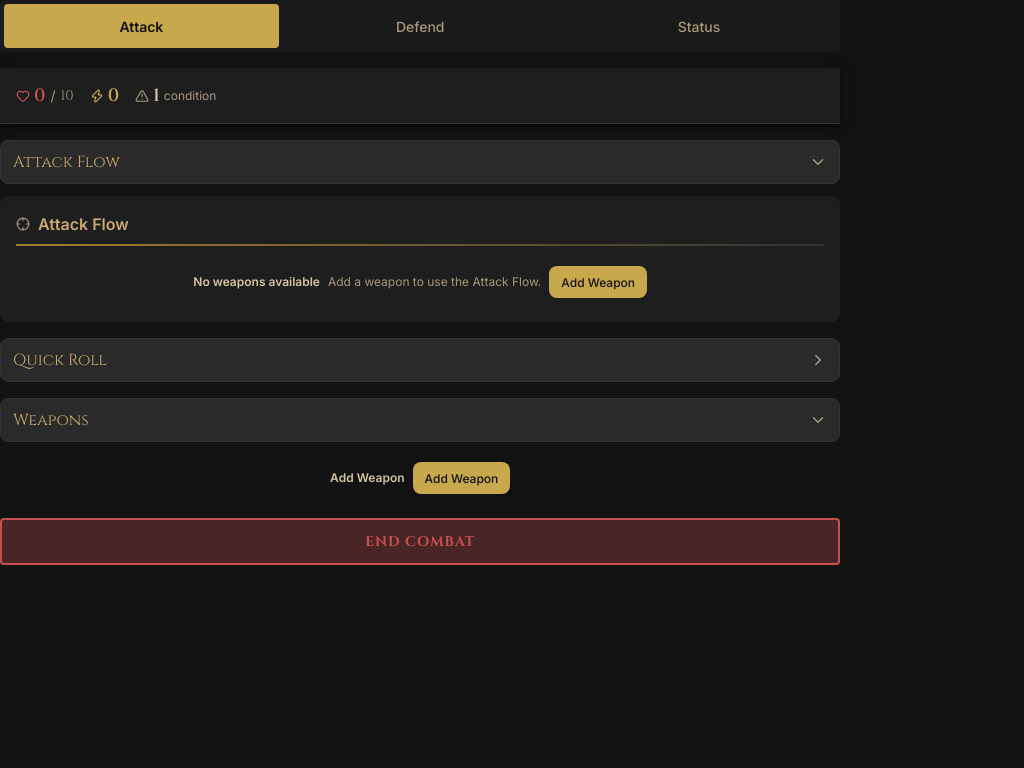
Test: CombatPage condition tooltips › clicking the info button on an active condition badge opens a tooltip
// Switch to Status mode to see the CombatDashboard
Click the tab "Status".
click(699, 26)  # box 562,4 -> 836,48
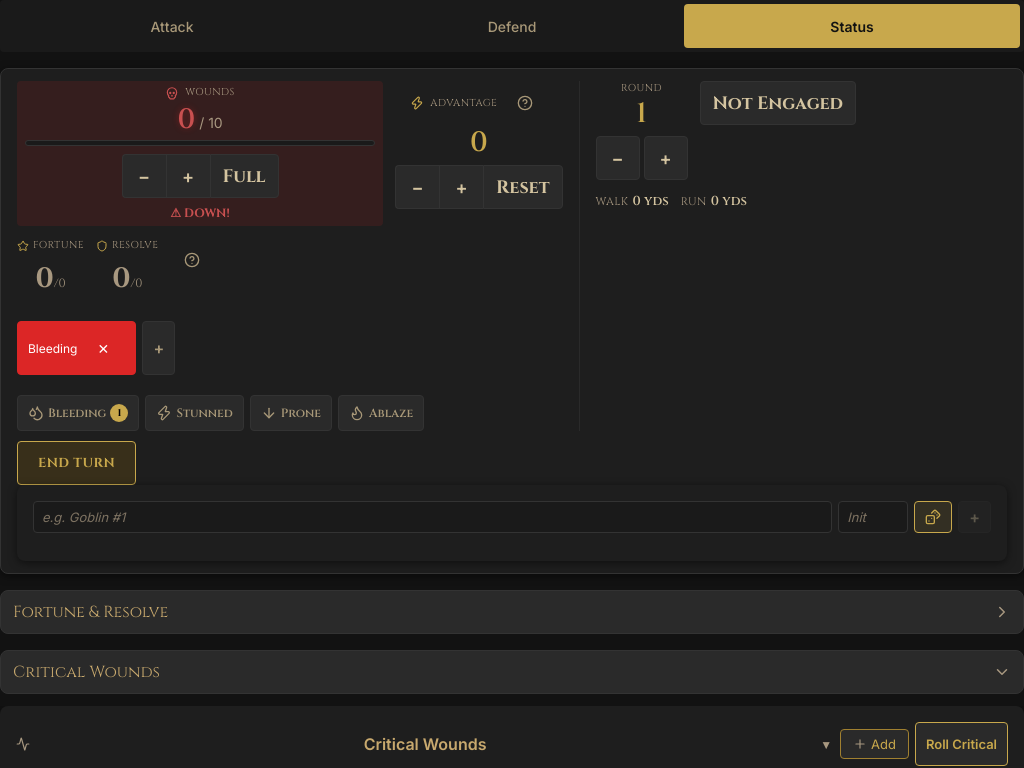
Click the button with aria-label "Info for Bleeding".
click(53, 348)  # box 28,326 -> 78,370
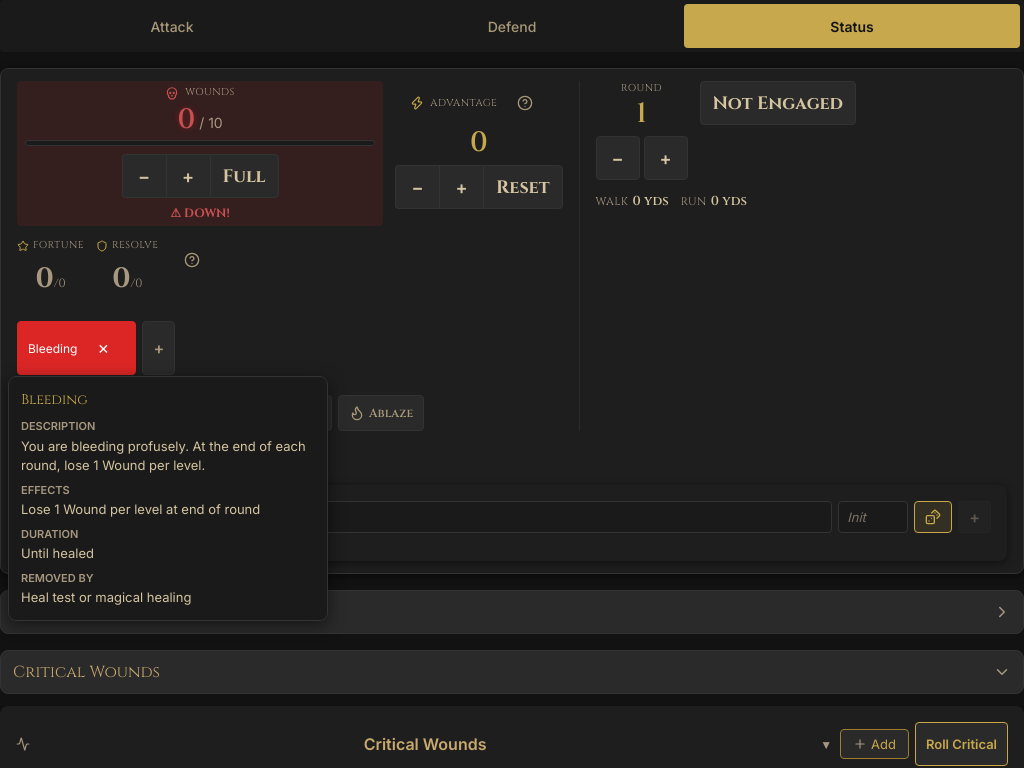
Result: the tooltip is shown at 8,376 -> 328,620
Result: the tooltip shows "Bleeding" at 21,390 -> 88,409
Result: the tooltip shows "Description" at 21,419 -> 95,433
